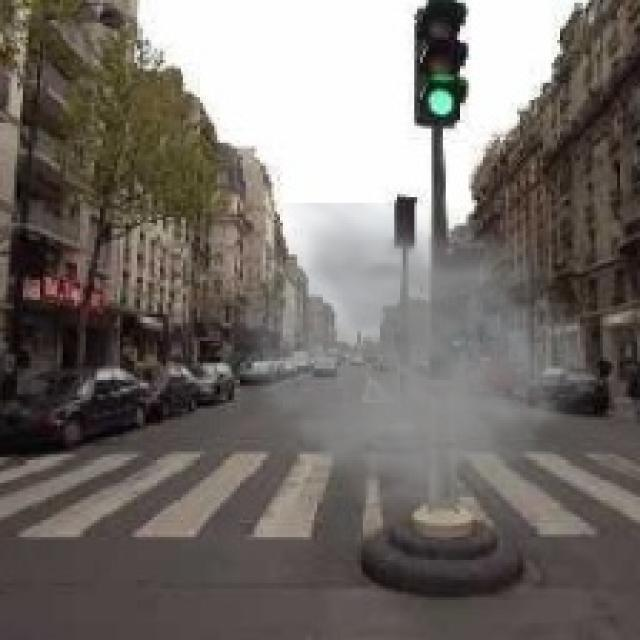Smoke: (212, 202, 617, 548)
